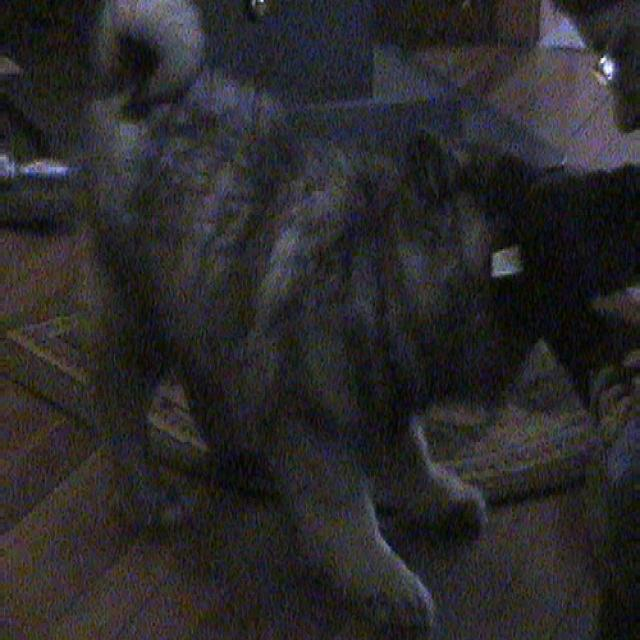Dog: (50, 21, 630, 628)
